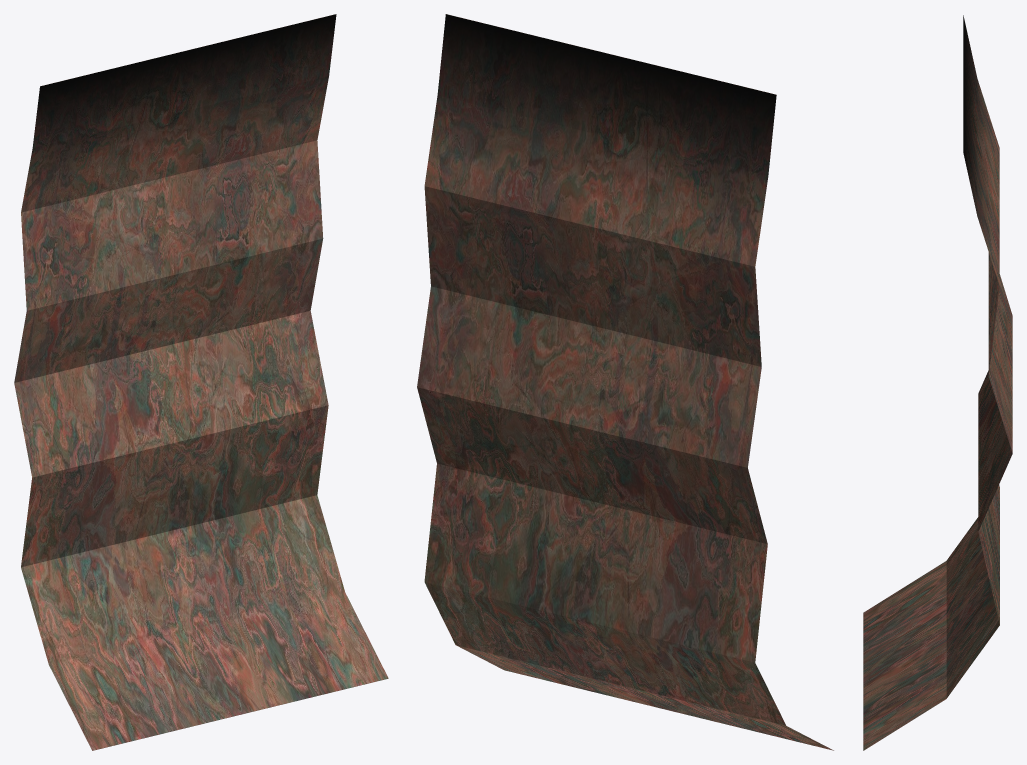
The model's file is cave_walls_plane_001.glb.
The picture shows the model from 3 angles, left to right: view 1: azimuth 30°, elevation 25°; view 2: azimuth 150°, elevation 25°; view 3: azimuth 270°, elevation 25°; orthographic projection. The views are drawn at different scales.
Visible parts, largest first — view 1: Plane.001-col; view 2: Plane.001-col; view 3: Plane.001-col.
Part boxes in pixels (x1=…): Plane.001-col: x1=14, y1=14, x2=388, y2=750; Plane.001-col: x1=417, y1=14, x2=833, y2=750; Plane.001-col: x1=863, y1=15, x2=1012, y2=750.
Bounding box in the file's own units: 2 × 4.04 × 0.9123.
1 material, 1 textured.
